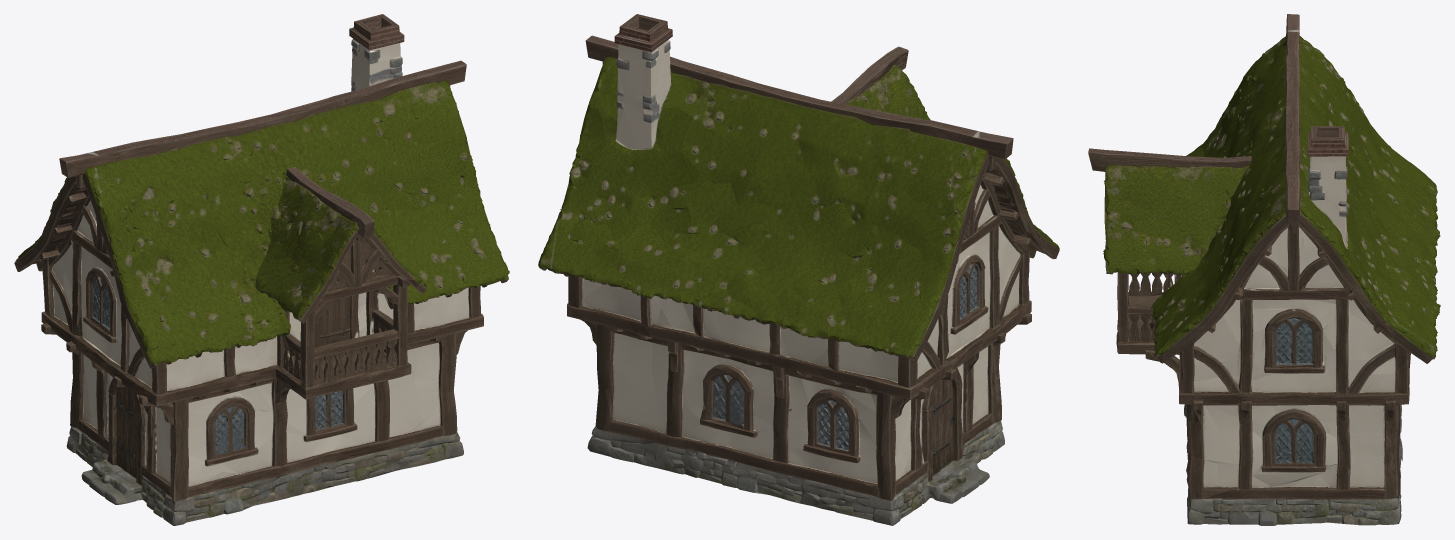
The model's file is CasaEldoria01.glb.
The picture shows the model from 3 angles, left to right: view 1: azimuth 30°, elevation 25°; view 2: azimuth 150°, elevation 25°; view 3: azimuth 270°, elevation 25°; orthographic projection. The views are drawn at different scales.
Parts seen in each view (by area): view 1: output_unwrapped; view 2: output_unwrapped; view 3: output_unwrapped.
Part boxes in pixels (x1,y1,x2,y2): output_unwrapped: (14, 14, 509, 525); output_unwrapped: (538, 14, 1059, 525); output_unwrapped: (1088, 14, 1440, 525).
Size of the model in its own units: 1.9 by 1.74 by 1.45.
Materials: 1 (1 with a texture image).
